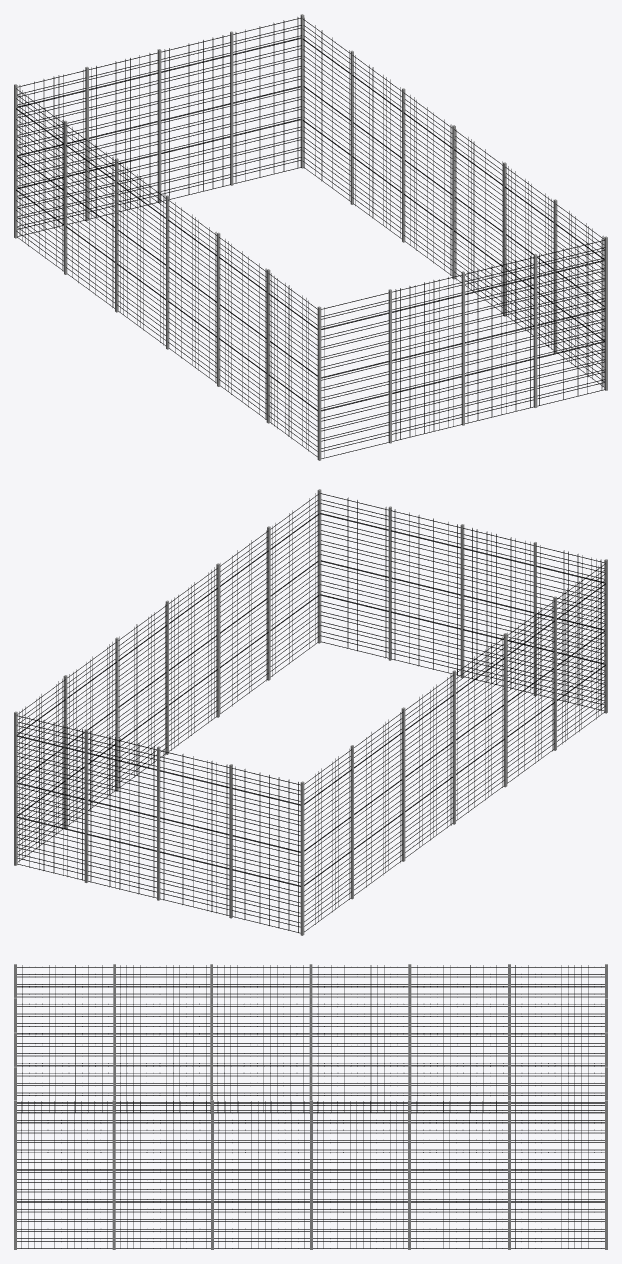
The model's file is NetAround.fbx.
3 renders of one model, top to bottom at view 1: azimuth 30°, elevation 25°; view 2: azimuth 150°, elevation 25°; view 3: azimuth 270°, elevation 25°, orthographic. The views are drawn at different scales.
Parts seen in each view (by area): view 1: pasted__pasted__pasted__pasted__pasted__pasted__pasted__past; view 2: pasted__pasted__pasted__pasted__pasted__pasted__pasted__past; view 3: pasted__pasted__pasted__pasted__pasted__pasted__pasted__past.
Part boxes in pixels (box(x1,y1,x2,y2)): pasted__pasted__pasted__pasted__pasted__pasted__pasted__past: box(14, 14, 607, 460); pasted__pasted__pasted__pasted__pasted__pasted__pasted__past: box(14, 489, 607, 935); pasted__pasted__pasted__pasted__pasted__pasted__pasted__past: box(14, 964, 607, 1249).
Bounding box in the file's own units: 21.98 × 11.12 × 40.24.
13 materials, 12 textured.
